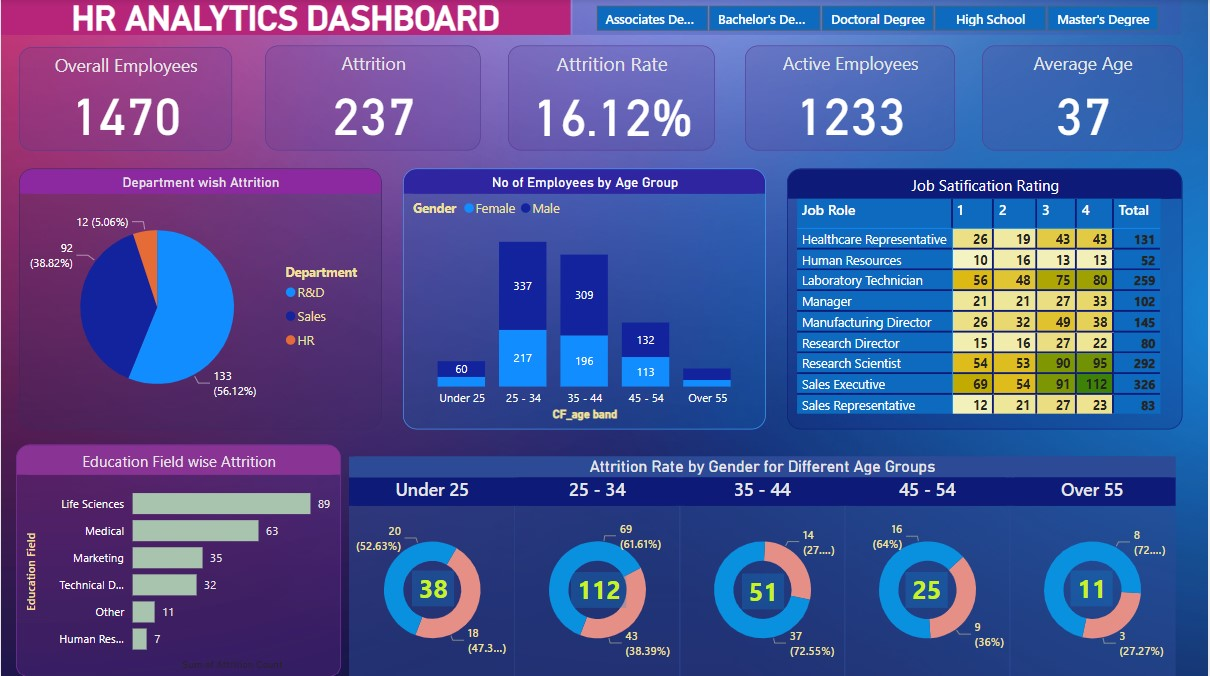

This screenshot's page, from the dashboard's own definition file:
{"tool":"powerbi","page":{"name":"Page 1","canvas":[1280,720],"ordinal":0},"visuals":[{"type":"card","title":"Overall Employees","fields":{"Values":["Sum(HR data.Employee Count)"]},"box":[19.1,50.9,225.7,109.7],"z":0},{"type":"card","title":"Attrition","fields":{"Values":["Sum(HR data.Attrition Count)"]},"box":[279.7,49.3,228.9,111.3],"z":1000},{"type":"card","title":"Attrition Rate","fields":{"Values":["HR data.Attrition Rate"]},"box":[537.2,49.3,219.3,111.3],"z":2000},{"type":"card","title":"Active Employees","fields":{"Values":["HR data.Active Employees"]},"box":[788.3,49.3,222.5,111.3],"z":3000},{"type":"card","title":"Average Age","fields":{"Values":["Avg(HR data.Age)"]},"box":[1039.5,49.3,213,111.3],"z":4000},{"type":"pieChart","title":"Department wish Attrition","fields":{"Category":["HR data.Department"],"Y":["Sum(HR data.Attrition Count)"]},"box":[19.1,179.6,384.6,276.6],"z":5000},{"type":"columnChart","title":"No of Employees by Age Group","fields":{"Category":["HR data.CF_age band"],"Y":["Sum(HR data.Employee Count)"],"Series":["HR data.Gender"]},"box":[426,179.6,384.6,276.6],"z":6000},{"type":"pivotTable","title":"Job Satification Rating","fields":{"Rows":["HR data.Job Role"],"Columns":["HR data.Job Satisfaction"],"Values":["Sum(HR data.Employee Count)"]},"box":[832.8,179.6,419.6,276.6],"z":7000},{"type":"barChart","title":" Education Field wise Attrition ","fields":{"Category":["HR data.Education Field"],"Y":["Sum(HR data.Attrition Count)"]},"box":[15.9,472.1,344.9,247.9],"z":8000},{"type":"donutChart","title":"Under 25","fields":{"Category":["HR data.Gender"],"Y":["Sum(HR data.Attrition Count)"],"Series":["HR data.CF_age band"]},"box":[368.7,507,176,213],"z":9000},{"type":"textbox","title":"Attrition Rate by Gender for Different Age Groups","box":[368.7,472.1,877.4,22.3],"z":10000},{"type":"donutChart","title":"25 - 34","fields":{"Category":["HR data.Gender"],"Y":["Sum(HR data.Attrition Count)"],"Series":["HR data.CF_age band"]},"box":[543.6,507,176.4,213],"z":11000},{"type":"donutChart","title":"35 - 44","fields":{"Category":["HR data.Gender"],"Y":["Sum(HR data.Attrition Count)"],"Series":["HR data.CF_age band"]},"box":[718.4,507,176.4,213],"z":12000},{"type":"donutChart","title":"45 - 54","fields":{"Category":["HR data.Gender"],"Y":["Sum(HR data.Attrition Count)"],"Series":["HR data.CF_age band"]},"box":[893.2,507,176.4,213],"z":13000},{"type":"donutChart","title":"Over 55","fields":{"Category":["HR data.Gender"],"Y":["Sum(HR data.Attrition Count)"],"Series":["HR data.CF_age band"]},"box":[1069.7,507,176.4,213],"z":14000},{"type":"card","fields":{"Values":["Sum(HR data.Attrition Count)"]},"box":[435.5,605.6,44.5,38.1],"z":15000},{"type":"card","fields":{"Values":["Sum(HR data.Attrition Count)"]},"box":[604,607.2,58.8,38.1],"z":15001},{"type":"card","fields":{"Values":["Sum(HR data.Attrition Count)"]},"box":[785.2,608.7,44.5,38.1],"z":15002},{"type":"card","fields":{"Values":["Sum(HR data.Attrition Count)"]},"box":[958.4,607.2,44.5,38.1],"z":15003},{"type":"card","fields":{"Values":["Sum(HR data.Attrition Count)"]},"box":[1134.8,605.6,44.5,38.1],"z":15004},{"type":"textbox","title":"HR ANALYTICS DASHBOARD","box":[0,0,604,38.1],"z":15005},{"type":"slicer","fields":{"Values":["HR data.Education"]},"box":[605.6,0,645.3,38.1],"z":15006}]}

Visuals, with their boxes in screenshot pixels (x1, y1, x2, y2), scaled from the page's 1280x720 canvas onto the 1210x676 screenshot:
"Overall Employees" card: left=18, top=48, right=231, bottom=151
"Attrition" card: left=264, top=46, right=481, bottom=151
"Attrition Rate" card: left=508, top=46, right=715, bottom=151
"Active Employees" card: left=745, top=46, right=956, bottom=151
"Average Age" card: left=983, top=46, right=1184, bottom=151
"Department wish Attrition" pieChart: left=18, top=169, right=382, bottom=428
"No of Employees by Age Group" columnChart: left=403, top=169, right=766, bottom=428
"Job Satification Rating" pivotTable: left=787, top=169, right=1184, bottom=428
" Education Field wise Attrition " barChart: left=15, top=443, right=341, bottom=675
"Under 25" donutChart: left=349, top=476, right=515, bottom=675
"Attrition Rate by Gender for Different Age Groups" textbox: left=349, top=443, right=1178, bottom=464
"25 - 34" donutChart: left=514, top=476, right=681, bottom=675
"35 - 44" donutChart: left=679, top=476, right=846, bottom=675
"45 - 54" donutChart: left=844, top=476, right=1011, bottom=675
"Over 55" donutChart: left=1011, top=476, right=1178, bottom=675
card - Sum(HR data.Attrition Count): left=412, top=569, right=454, bottom=604
card - Sum(HR data.Attrition Count): left=571, top=570, right=627, bottom=606
card - Sum(HR data.Attrition Count): left=742, top=572, right=784, bottom=607
card - Sum(HR data.Attrition Count): left=906, top=570, right=948, bottom=606
card - Sum(HR data.Attrition Count): left=1073, top=569, right=1115, bottom=604
"HR ANALYTICS DASHBOARD" textbox: left=0, top=0, right=571, bottom=36
slicer - HR data.Education: left=572, top=0, right=1182, bottom=36
